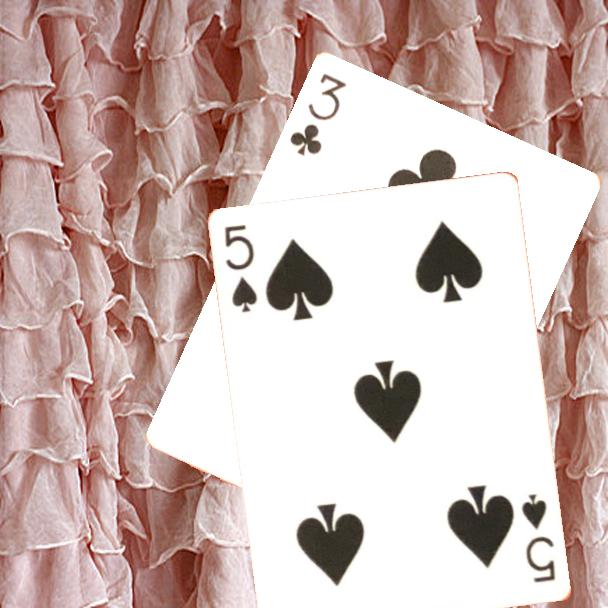c03: (285, 69, 349, 158)
s05: (518, 490, 559, 586), (221, 222, 261, 316)
